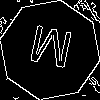M: (25, 25, 75, 78)
